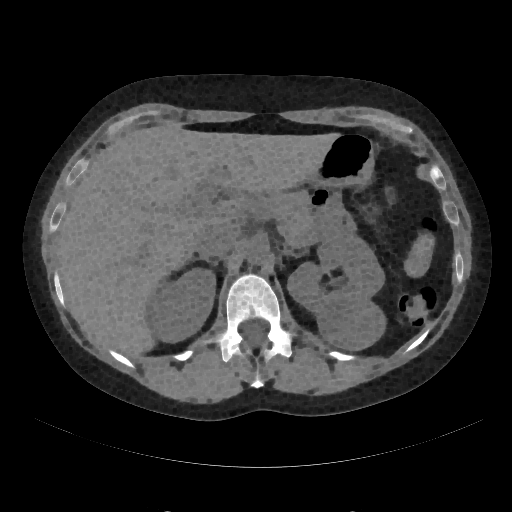Lesion: (313, 287, 391, 359)
